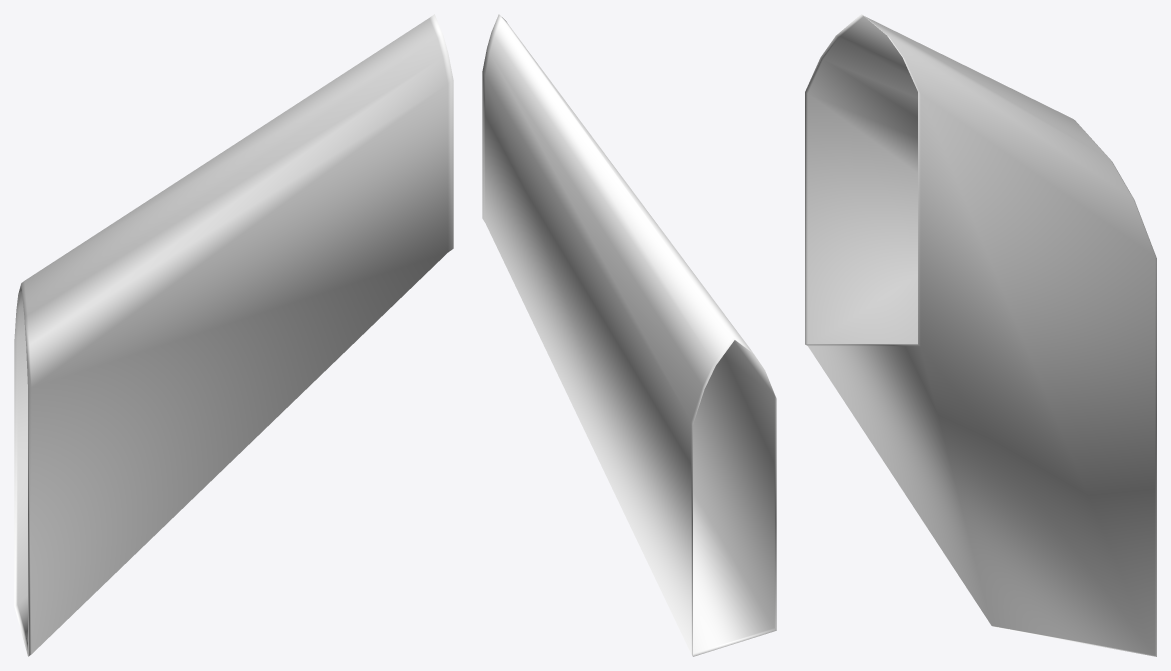
The model's file is god-ray-level-3.gltf.
The picture shows the model from 3 angles, left to right: view 1: azimuth 30°, elevation 25°; view 2: azimuth 150°, elevation 25°; view 3: azimuth 270°, elevation 25°; orthographic projection. The views are drawn at different scales.
Parts seen in each view (by area): view 1: Chunk.001; view 2: Chunk.001; view 3: Chunk.001.
Part boxes in pixels (bbox=[...]): Chunk.001: bbox=[14, 14, 453, 656]; Chunk.001: bbox=[482, 14, 776, 656]; Chunk.001: bbox=[805, 14, 1156, 656].
Size of the model in its own units: 17.15 by 26.52 by 9.64.
1 material, 1 textured.
